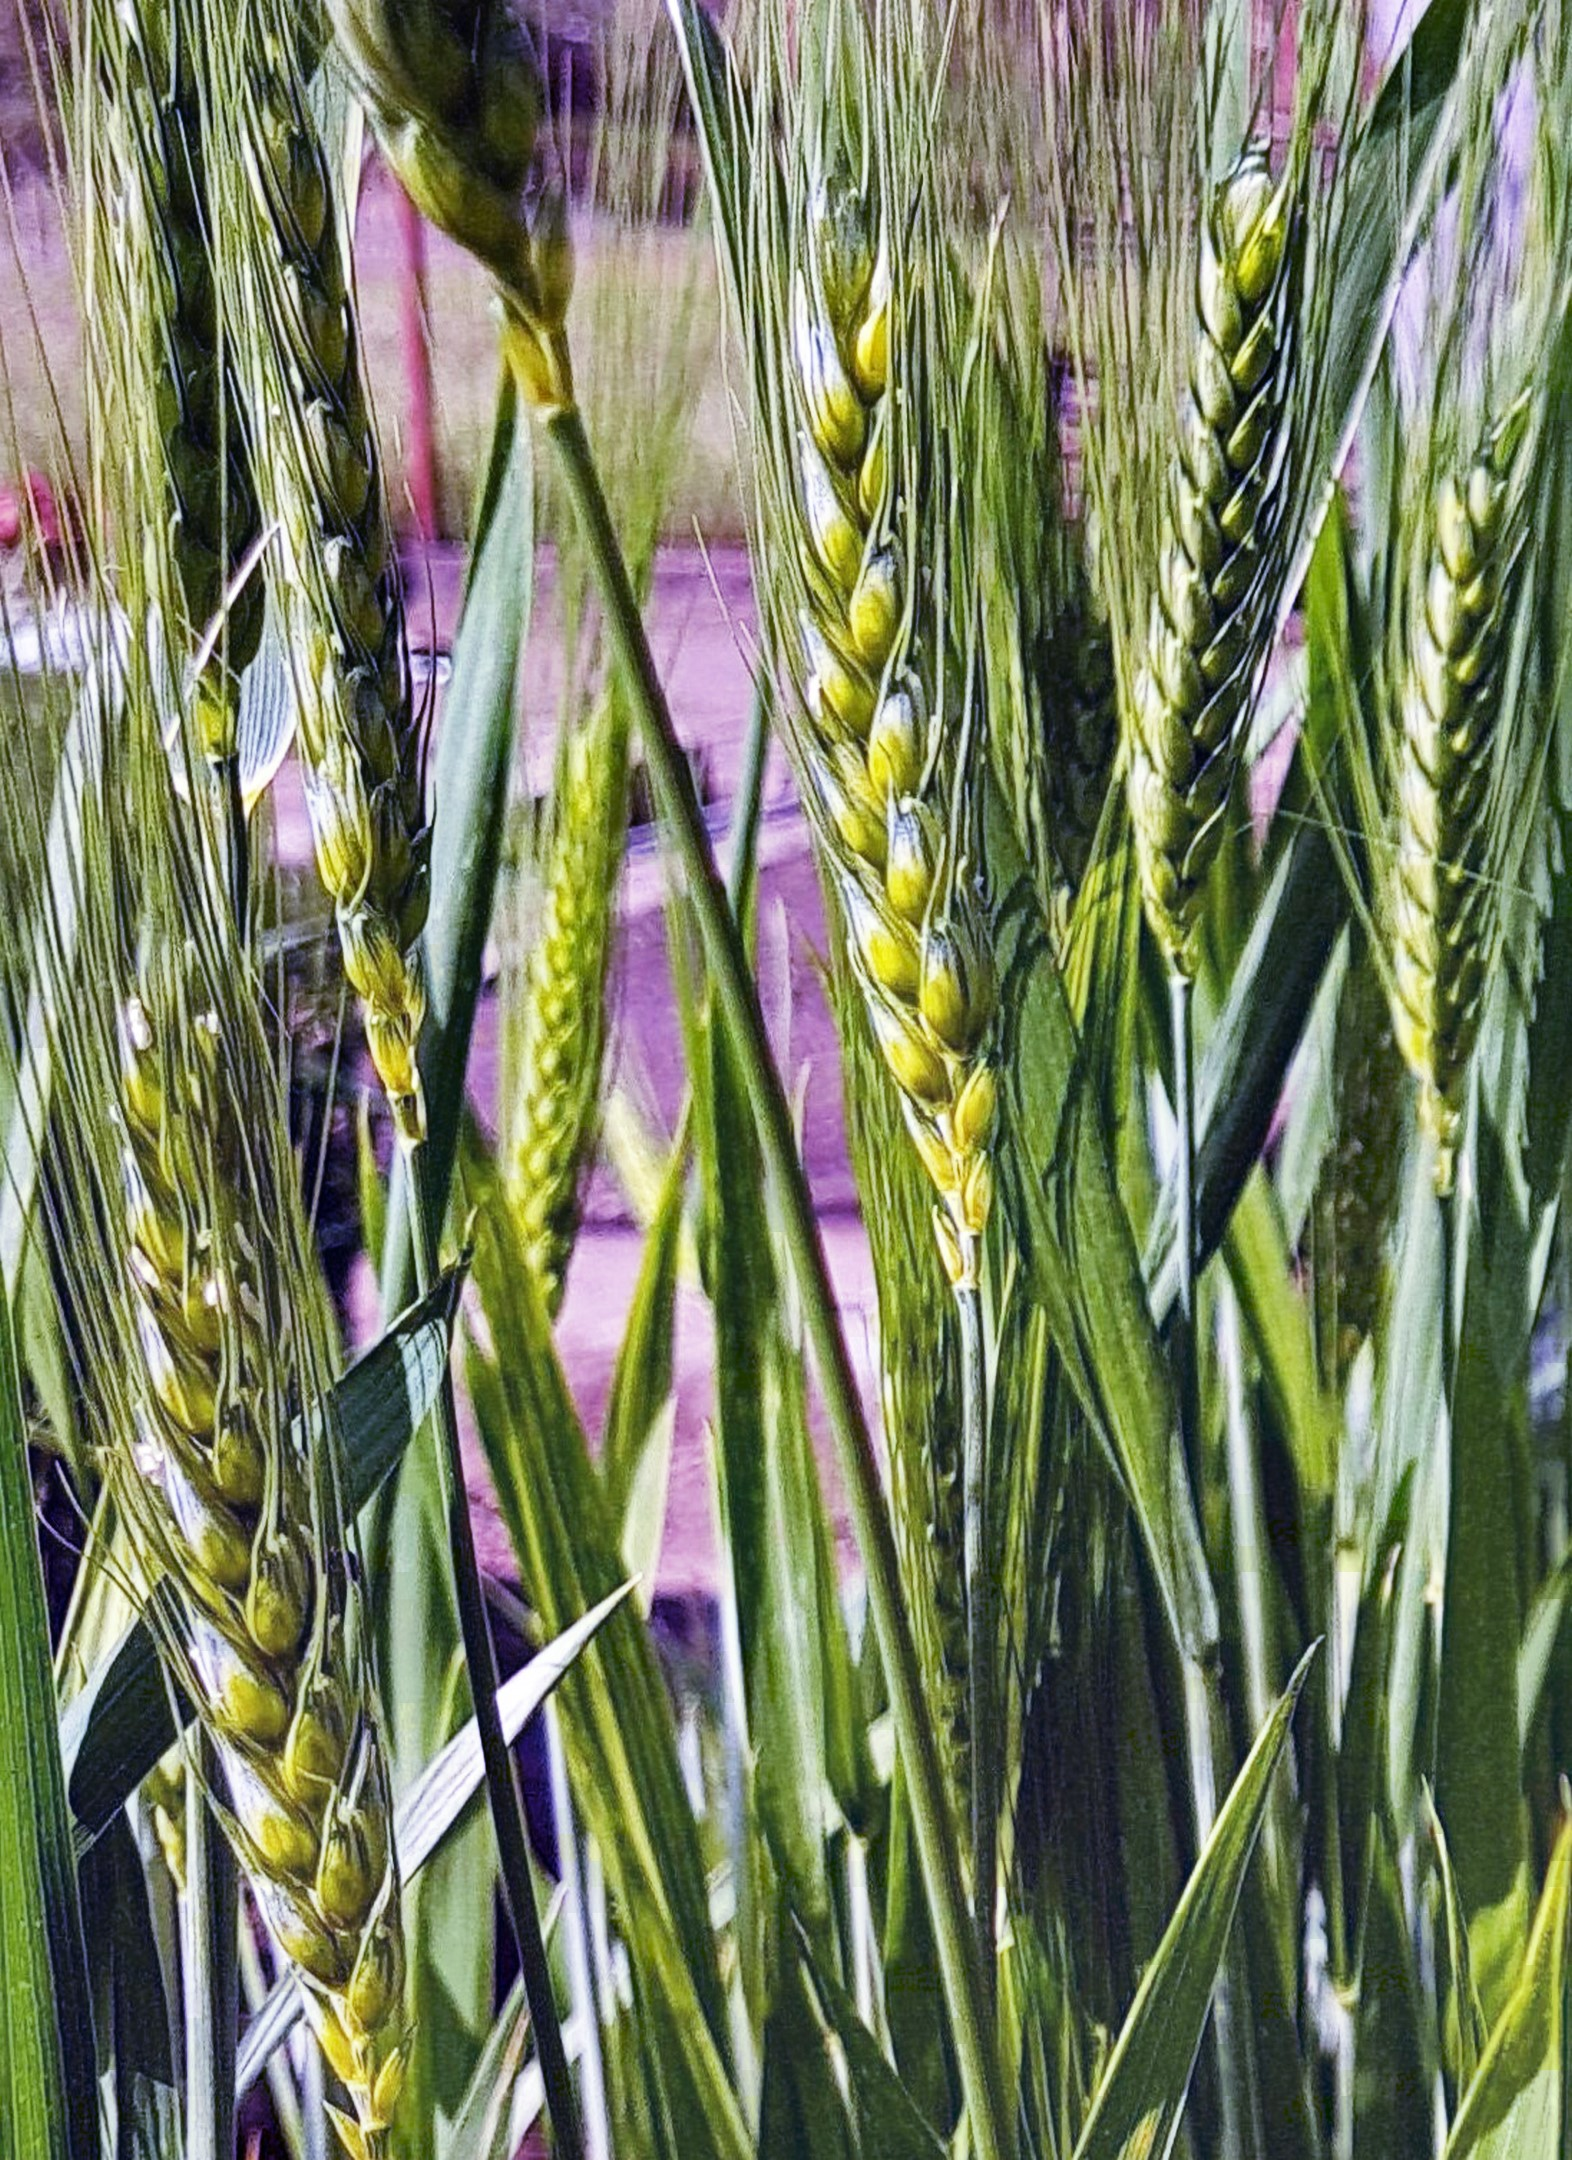Healthy Wheat: (64, 919, 473, 2116), (737, 205, 1023, 1248), (1122, 124, 1300, 926)
